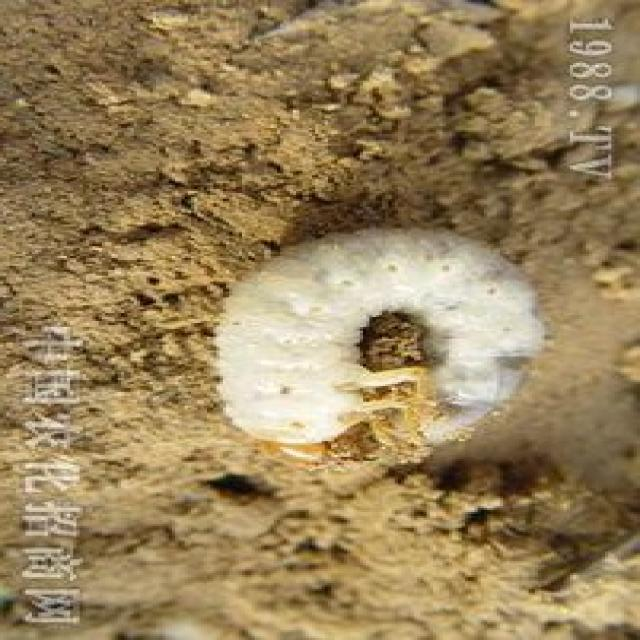grub: (221, 227, 539, 460)
